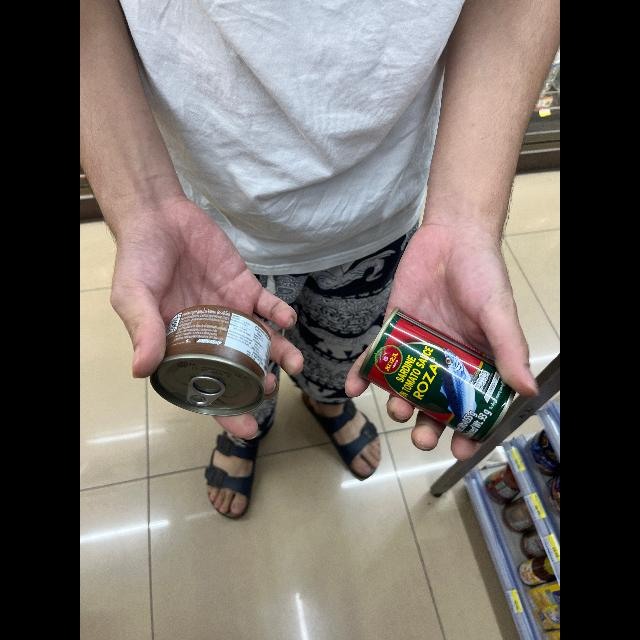can: (350, 307, 518, 433), (150, 312, 282, 428)
